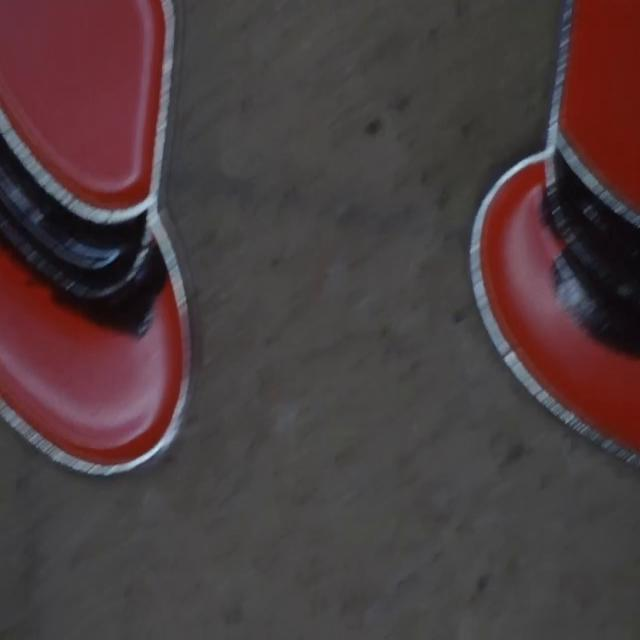Hatband: (0, 107, 154, 300), (549, 129, 640, 308)
Paint_Leak: (55, 240, 168, 336), (554, 244, 640, 356)
